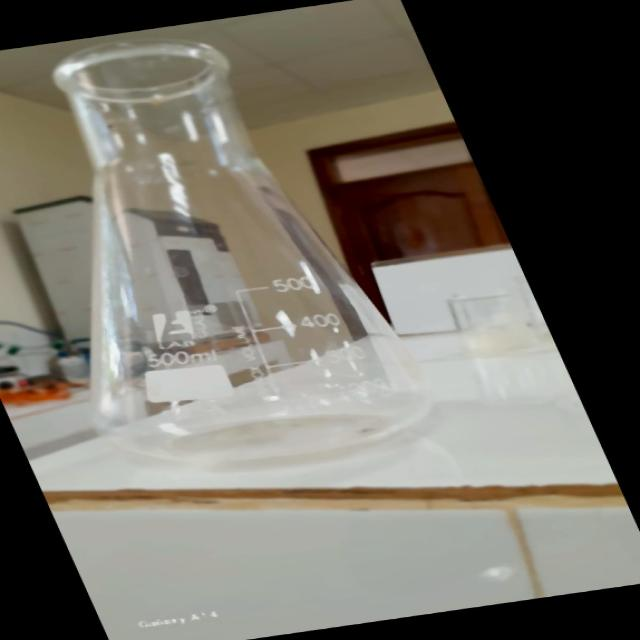Conical Flask: (0, 16, 476, 476)
